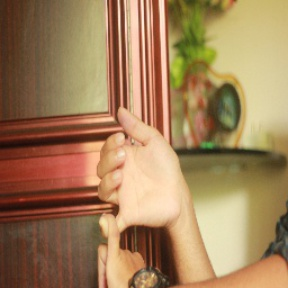S: (89, 105, 187, 288)
